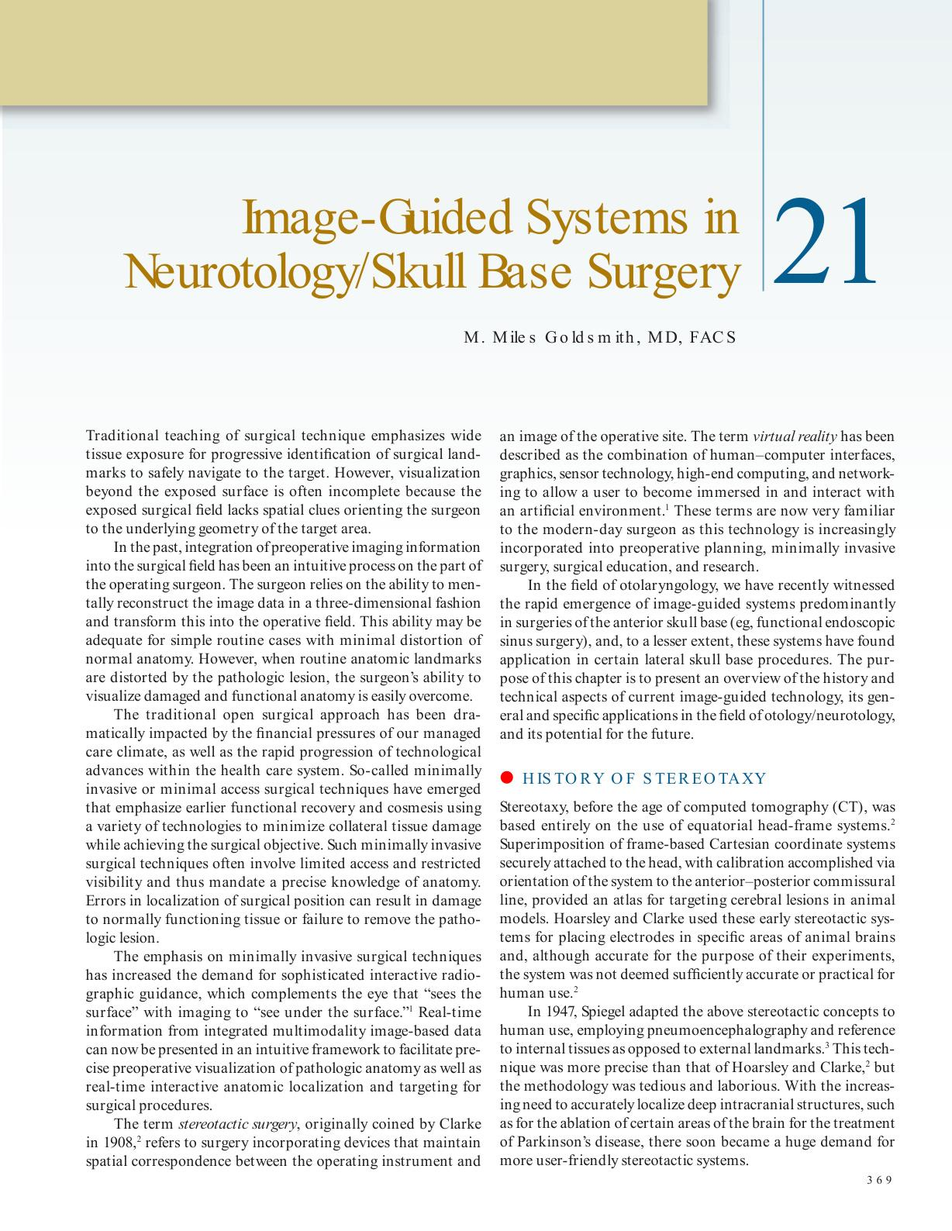chapter-heading: (118, 192, 748, 300)
section-heading: (521, 771, 767, 785)
text: (82, 426, 483, 1172), (498, 797, 897, 1171), (496, 427, 897, 744)
